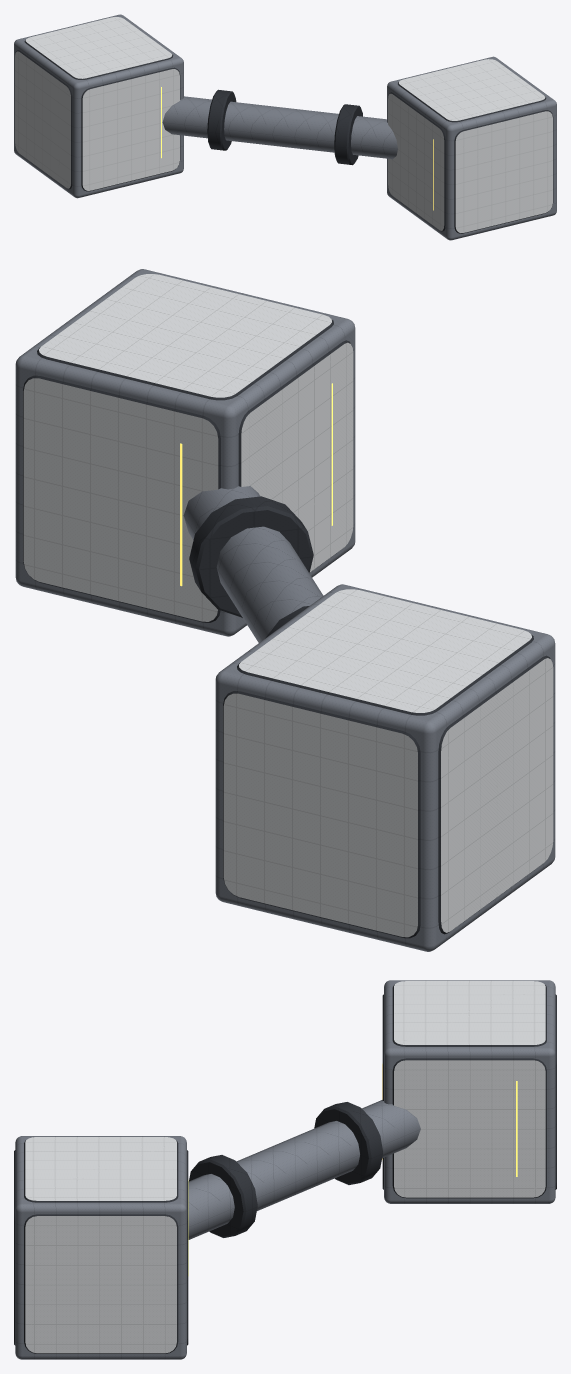
The model's file is R4C_STRUT_DIAG_2D.glb.
3 views of the same model, one above another, from view 1: azimuth 30°, elevation 25°; view 2: azimuth 150°, elevation 25°; view 3: azimuth 270°, elevation 25° (orthographic). The views are drawn at different scales.
Visible parts, largest first — view 1: R4C_STRUT_DIAG_2D; view 2: R4C_STRUT_DIAG_2D; view 3: R4C_STRUT_DIAG_2D.
Boxes of the visible parts, x1,y1,x2,y2 form: R4C_STRUT_DIAG_2D: [14, 14, 556, 240]; R4C_STRUT_DIAG_2D: [15, 269, 555, 951]; R4C_STRUT_DIAG_2D: [14, 980, 556, 1359].
Size of the model in its own units: 1.62 by 0.52 by 1.62.
4 materials, 3 textured.
